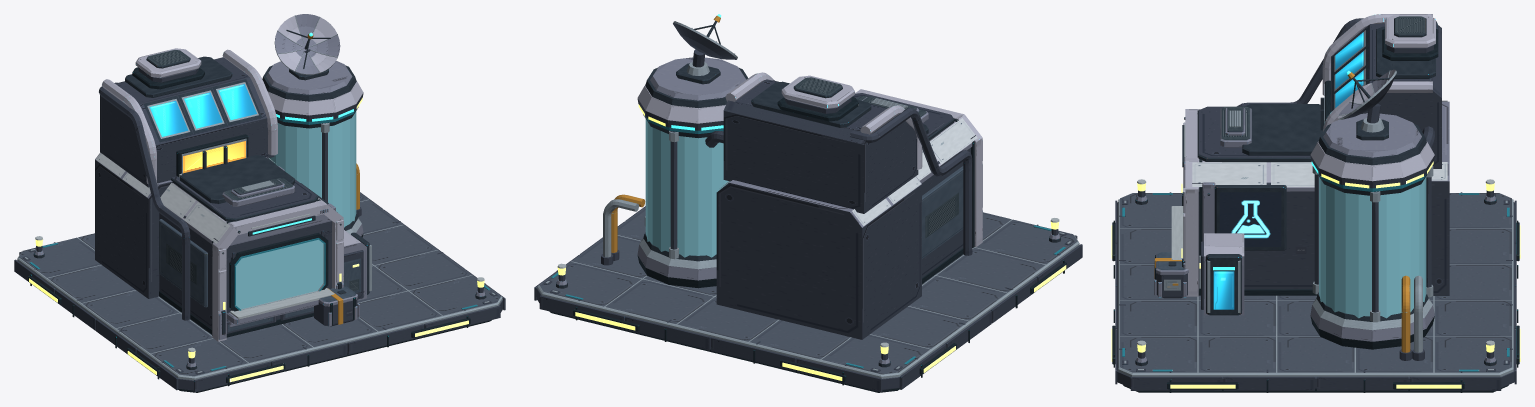
Rendered from LB03_LaboratorioAvanzado.fbx.
The picture shows the model from 3 angles, left to right: view 1: azimuth 30°, elevation 25°; view 2: azimuth 150°, elevation 25°; view 3: azimuth 270°, elevation 25°; orthographic projection. The views are drawn at different scales.
Parts seen in each view (by area): view 1: Estructura_3, Vidrios_3; view 2: Estructura_3, Vidrios_3; view 3: Estructura_3, Vidrios_3.
Part boxes in pixels (bbox=[...]): Estructura_3: bbox=[14, 14, 505, 392]; Vidrios_3: bbox=[236, 111, 356, 309]; Estructura_3: bbox=[534, 14, 1082, 392]; Vidrios_3: bbox=[645, 119, 730, 257]; Estructura_3: bbox=[1111, 14, 1520, 392]; Vidrios_3: bbox=[1319, 177, 1426, 318].
Size of the model in its own units: 7.02 by 4.78 by 6.5.
